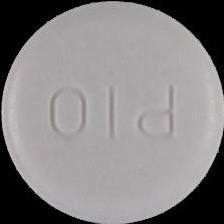16729-022: (0, 0, 224, 224)
